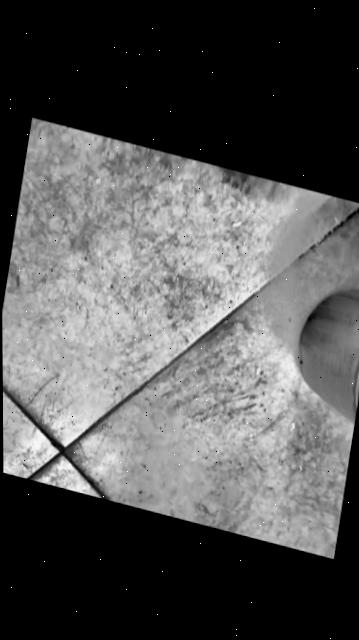pot: (282, 256, 359, 453)
